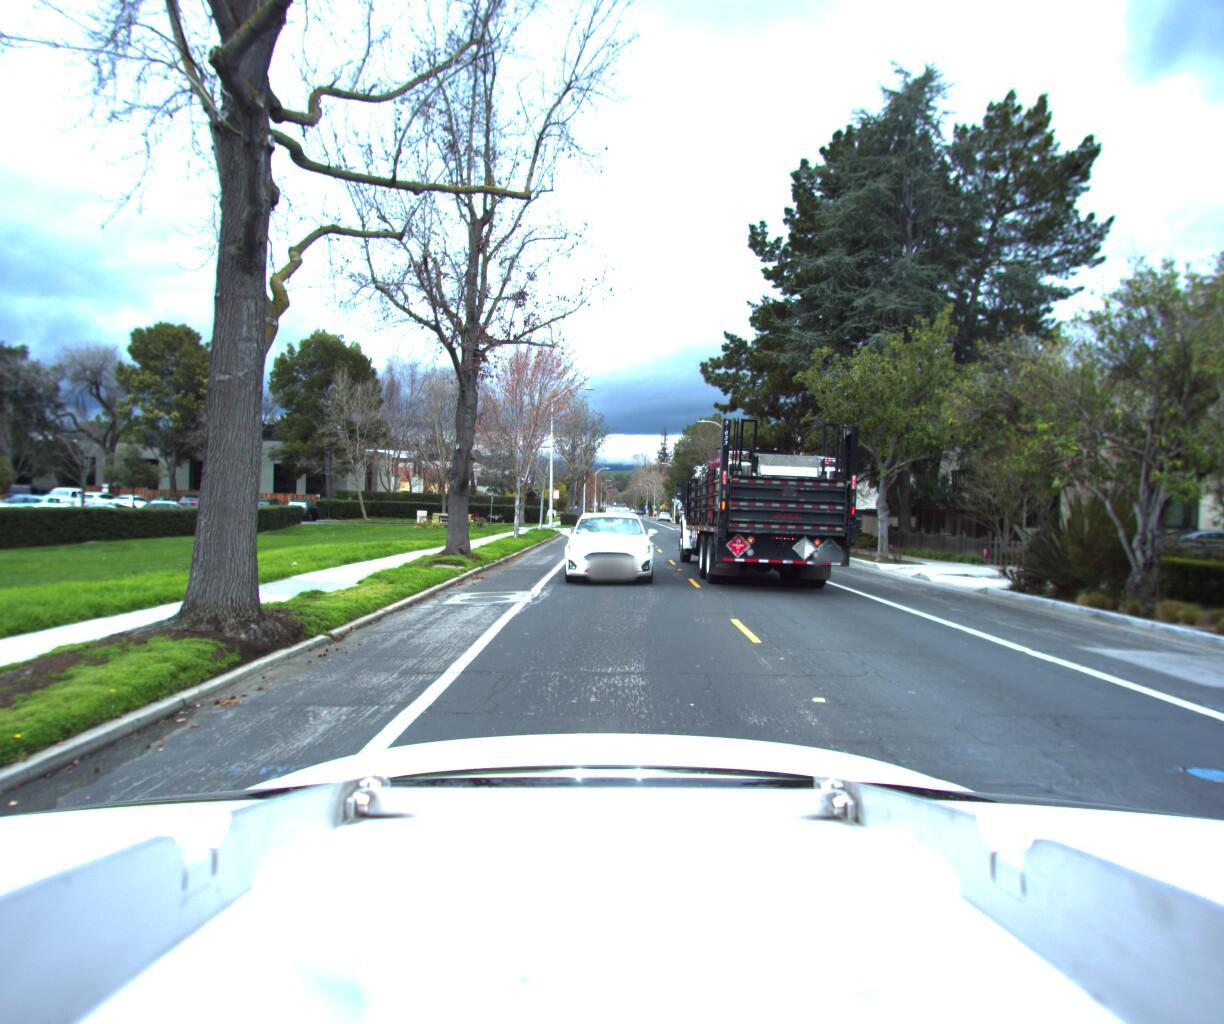car: (562, 511, 658, 590)
truck: (672, 420, 861, 592)
